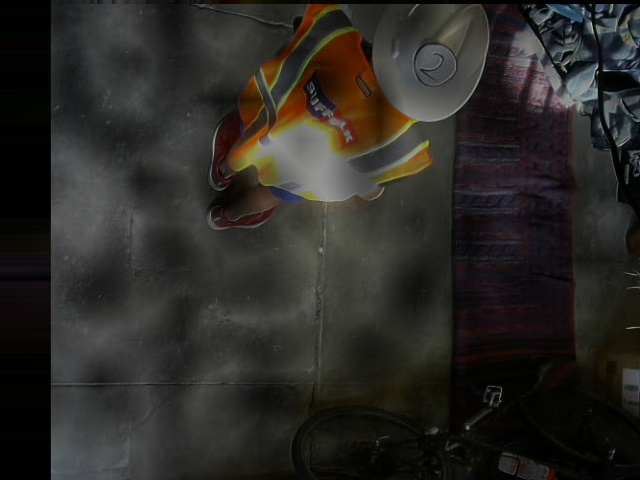two: (413, 42, 458, 86)
